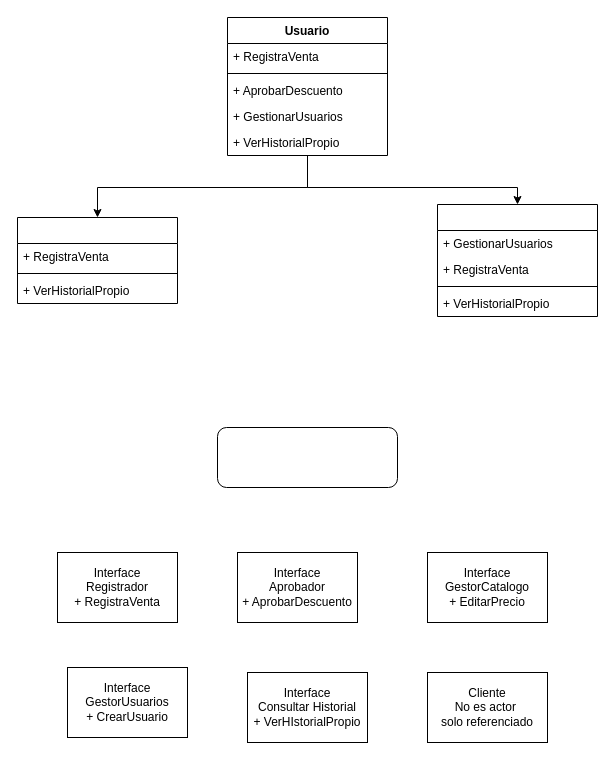
The diagram is 615 pixels wide and 760 high, and some of its shapes have lost their labels. Each missing label, with the box of its shape:
Administrador: (436, 204, 598, 316)
PARTIR POR CAPACIDAD: (216, 426, 398, 488)
Vendedor: (16, 216, 178, 304)
